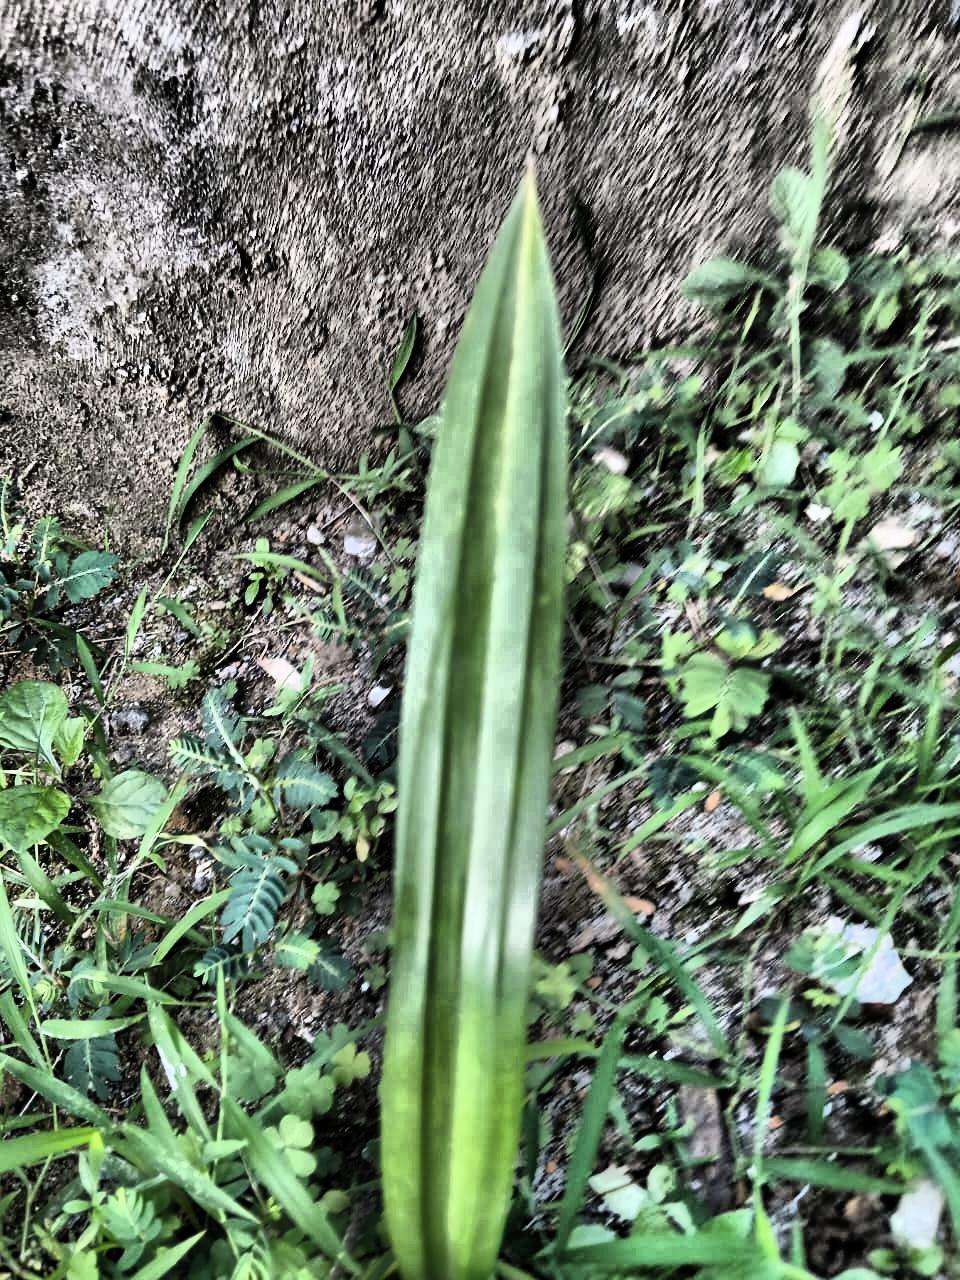daun pandan: (379, 172, 569, 1279)
